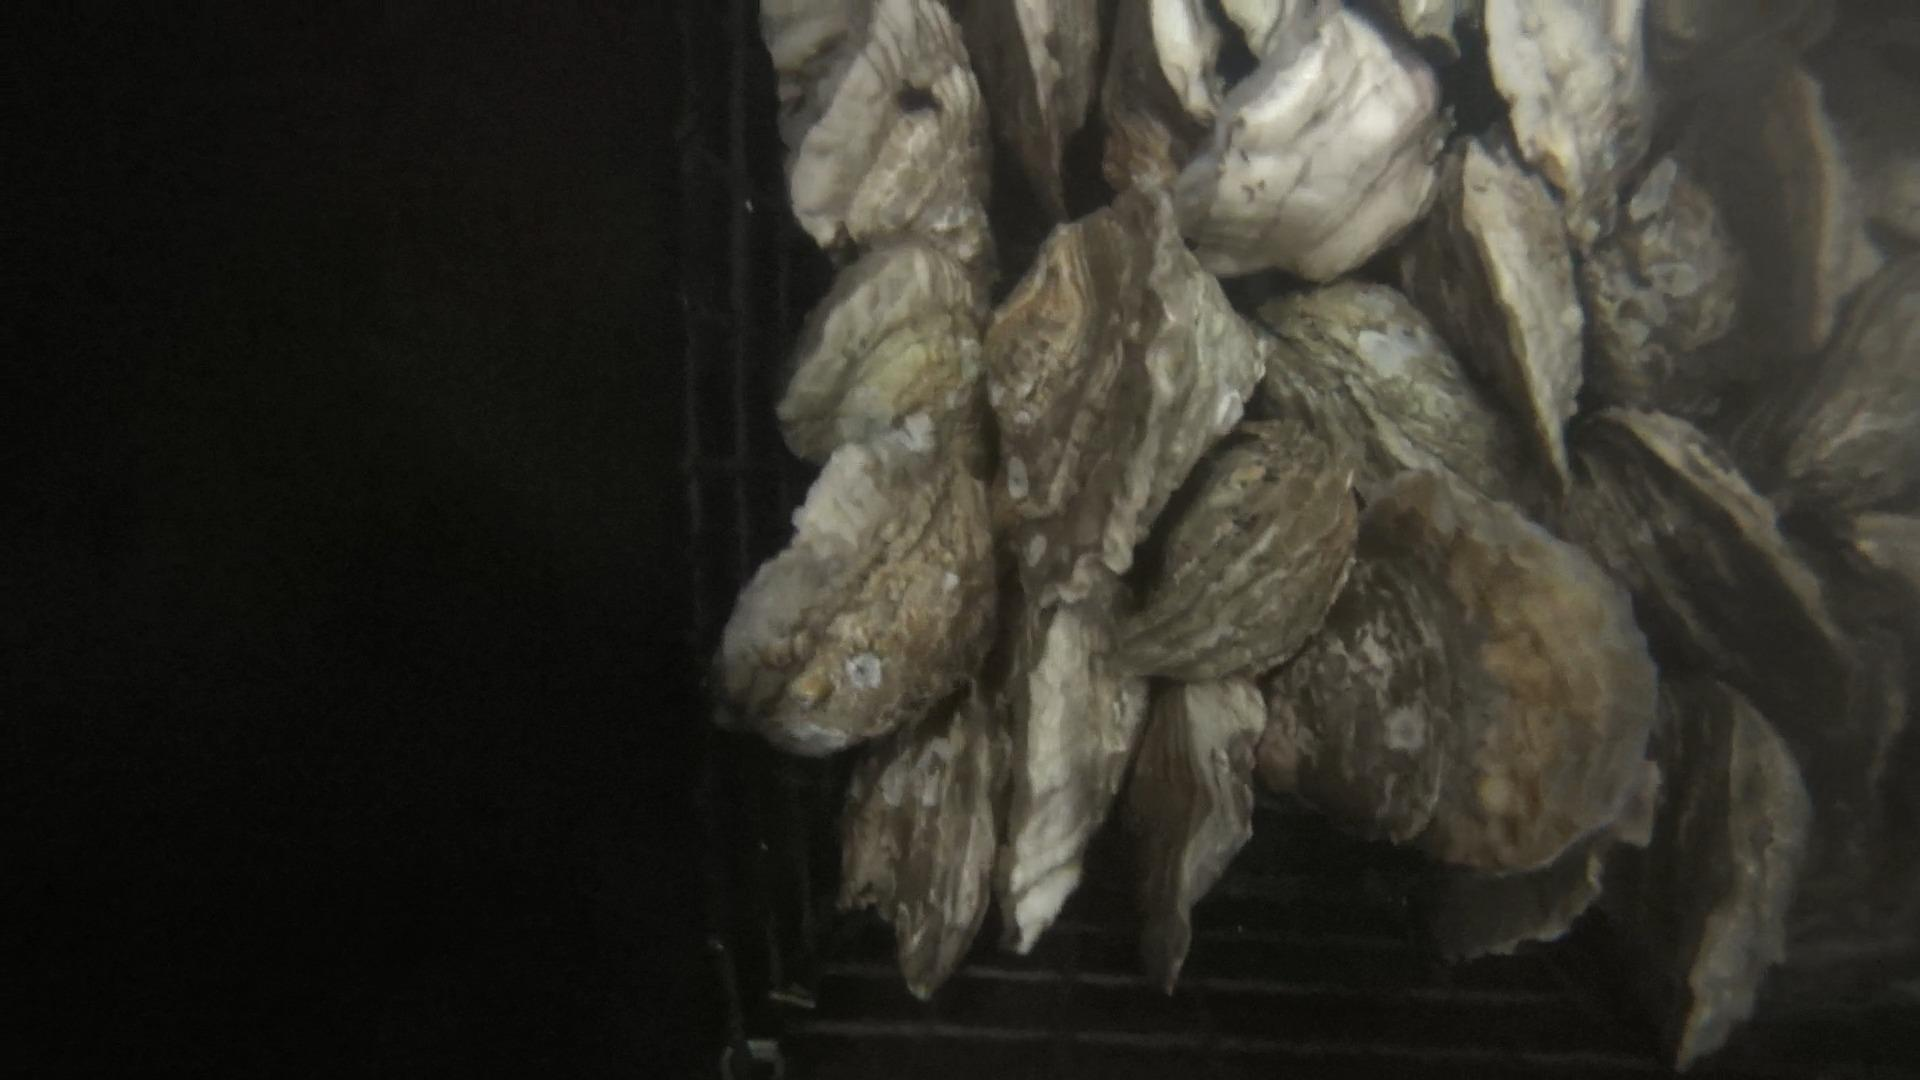3: (988, 185, 1265, 604), (1582, 407, 1855, 731), (1605, 676, 1815, 1069), (1176, 0, 1445, 280), (1404, 135, 1586, 483), (1429, 760, 1664, 961), (1738, 252, 1920, 509), (1127, 676, 1269, 994)
Oyster- Indeterminate: (1261, 469, 1659, 873), (1487, 0, 1658, 245), (1592, 154, 1745, 352), (1584, 243, 1677, 406)
Oyster-Closed: (716, 427, 996, 754), (1681, 44, 1884, 364), (761, 0, 992, 277), (1121, 418, 1360, 680), (1261, 278, 1526, 501), (1000, 576, 1147, 953), (841, 684, 997, 1000), (777, 240, 984, 459), (961, 0, 1101, 218)
